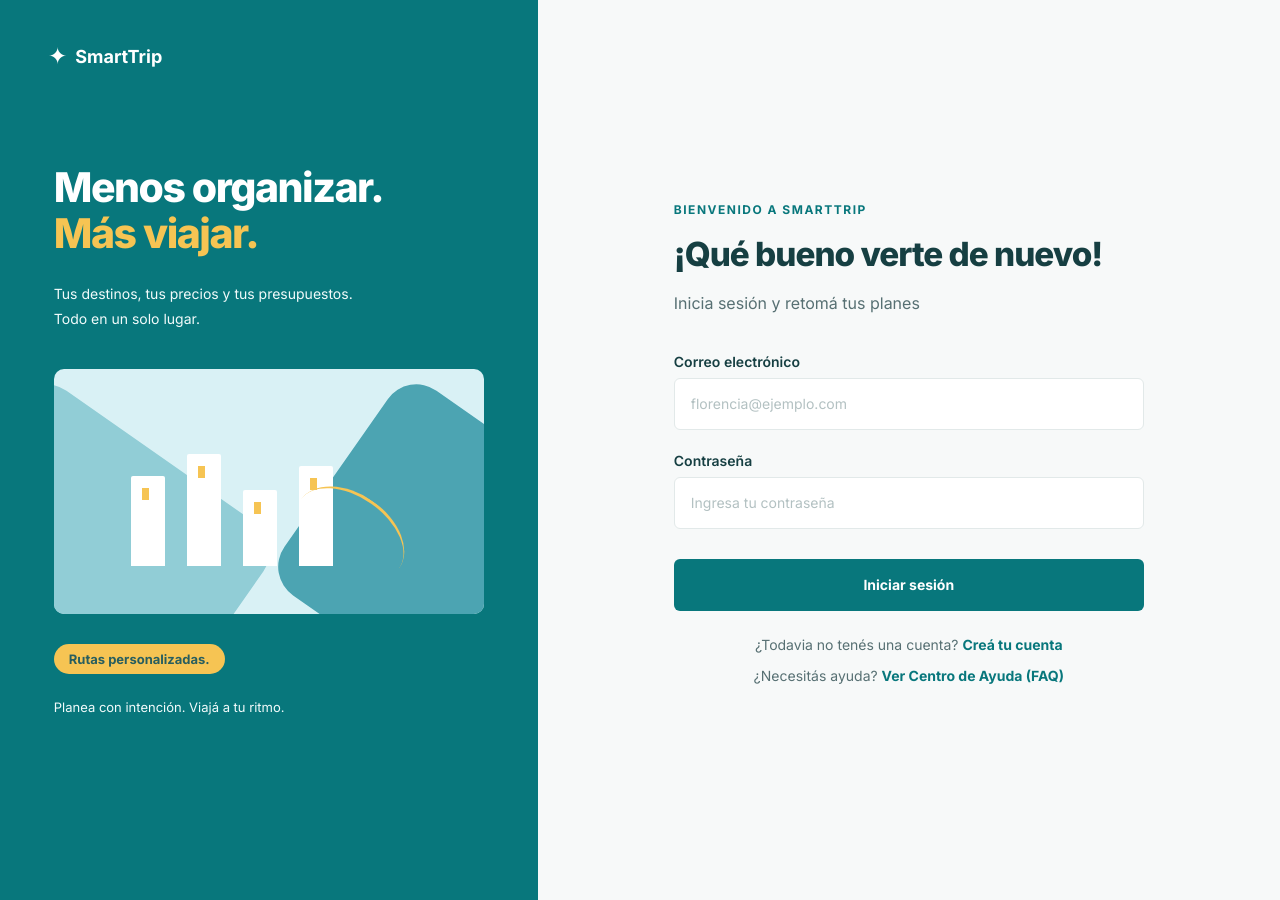
Scenario: Login Component › no permite ingresar y muestra el error si el servidor rechaza las credenciales
This screenshot has width=1280, height=900.
Type "noexiste@example.com" into the field labelled "Correo electrónico".
click(909, 404); type("noexiste@example.com")  # box [674,378,1144,430]
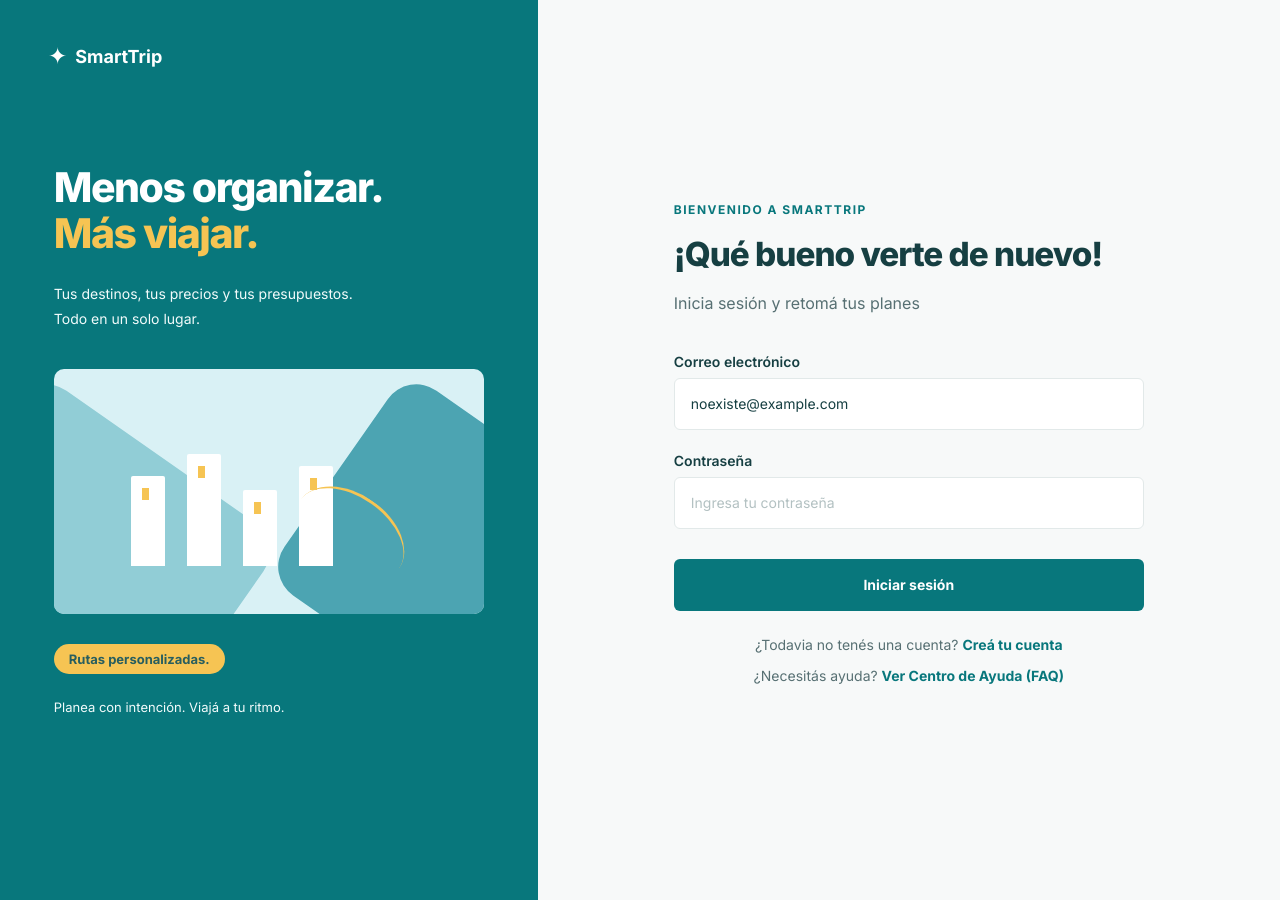
Type "incorrecta" into the password field labelled "Contraseña".
click(909, 503); type("incorrecta")  # box [674,477,1144,529]
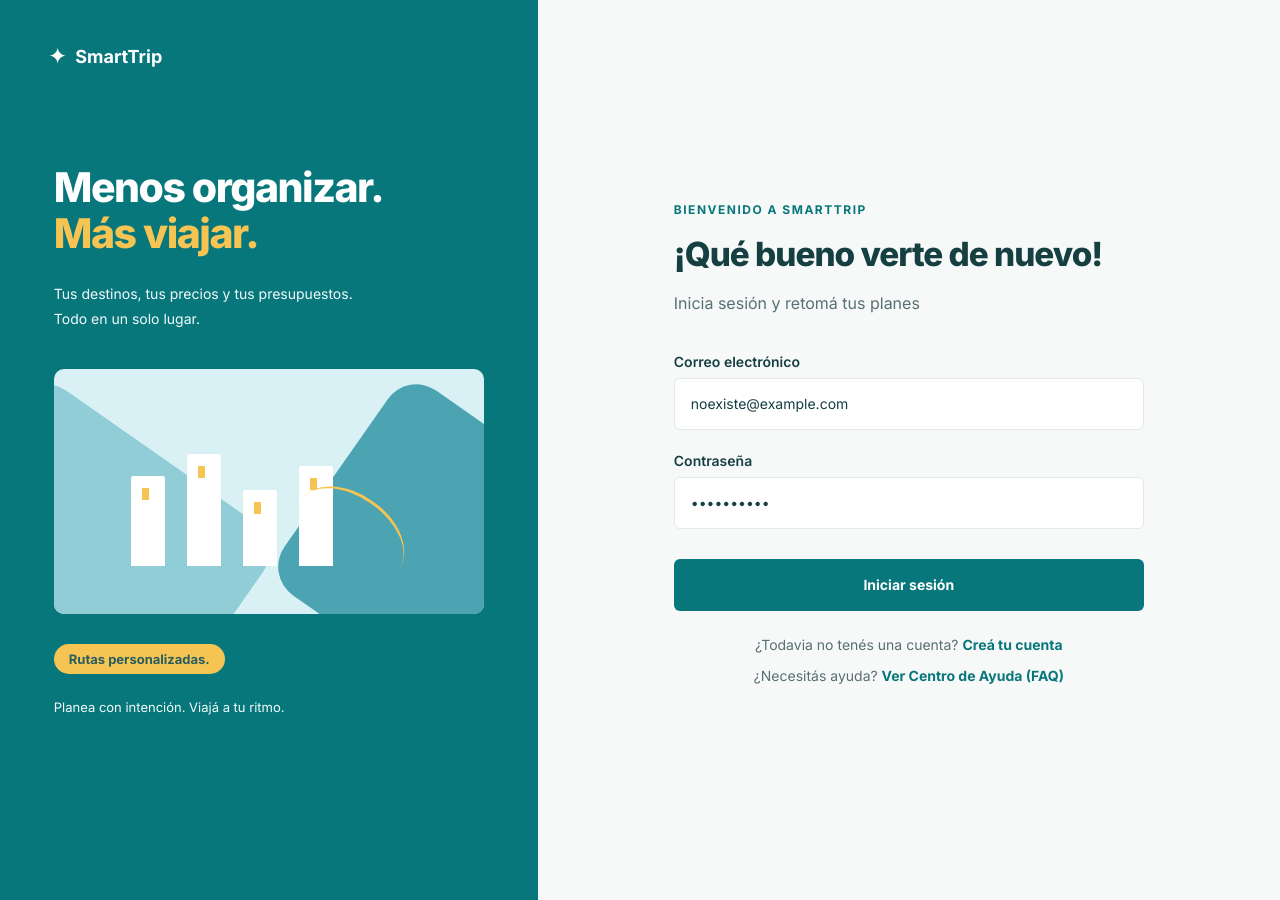
Click the button "Iniciar sesión".
click(909, 585)  # box [674,559,1144,611]
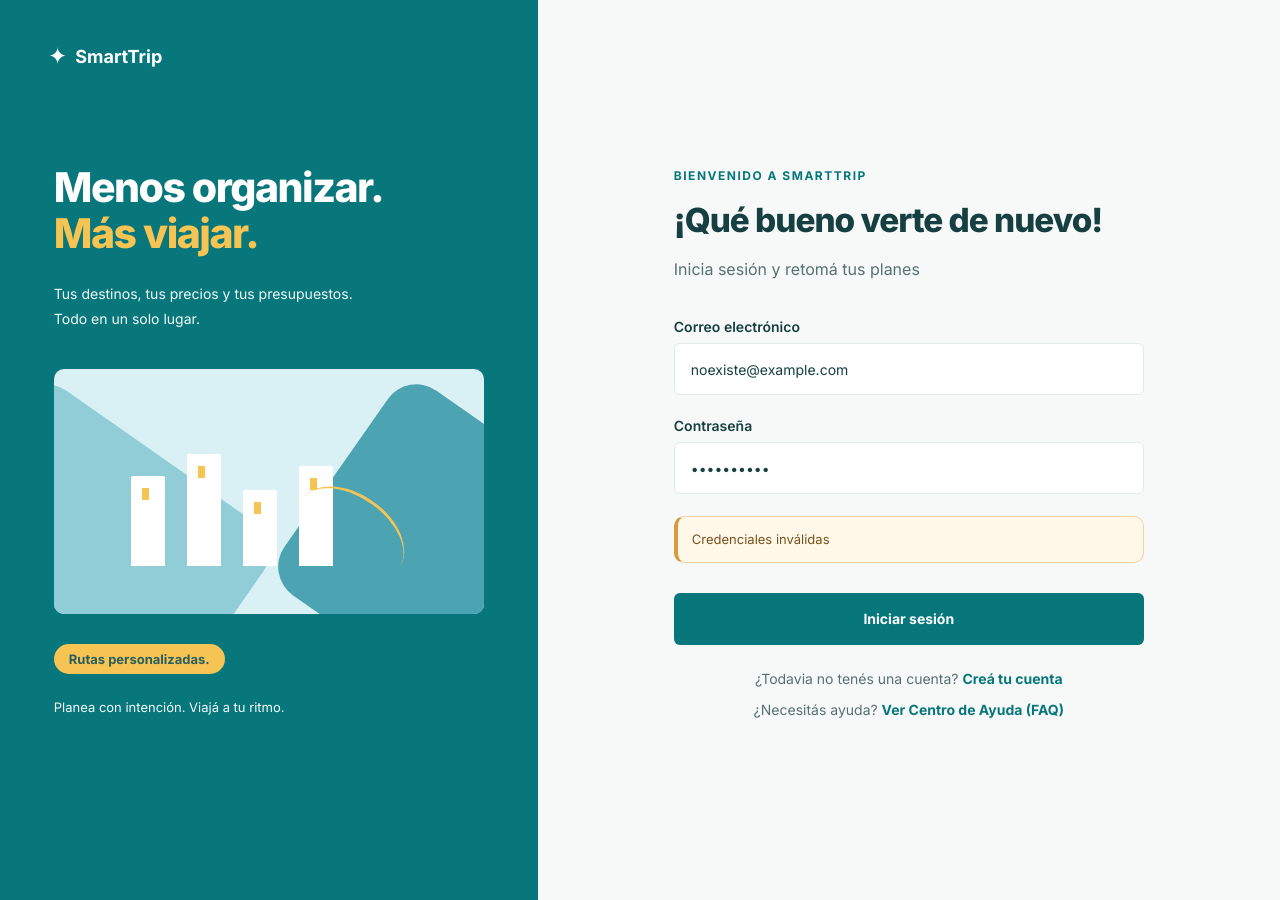
Expected: the message reads "Credenciales inválidas", [692,532,830,548]
